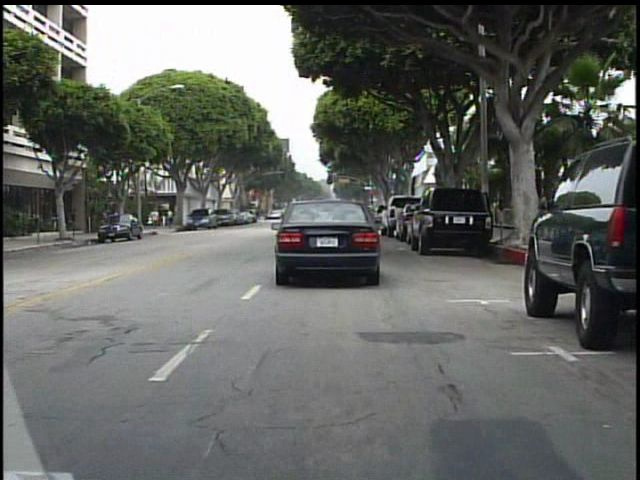person: (149, 204, 164, 234), (167, 204, 180, 231)
